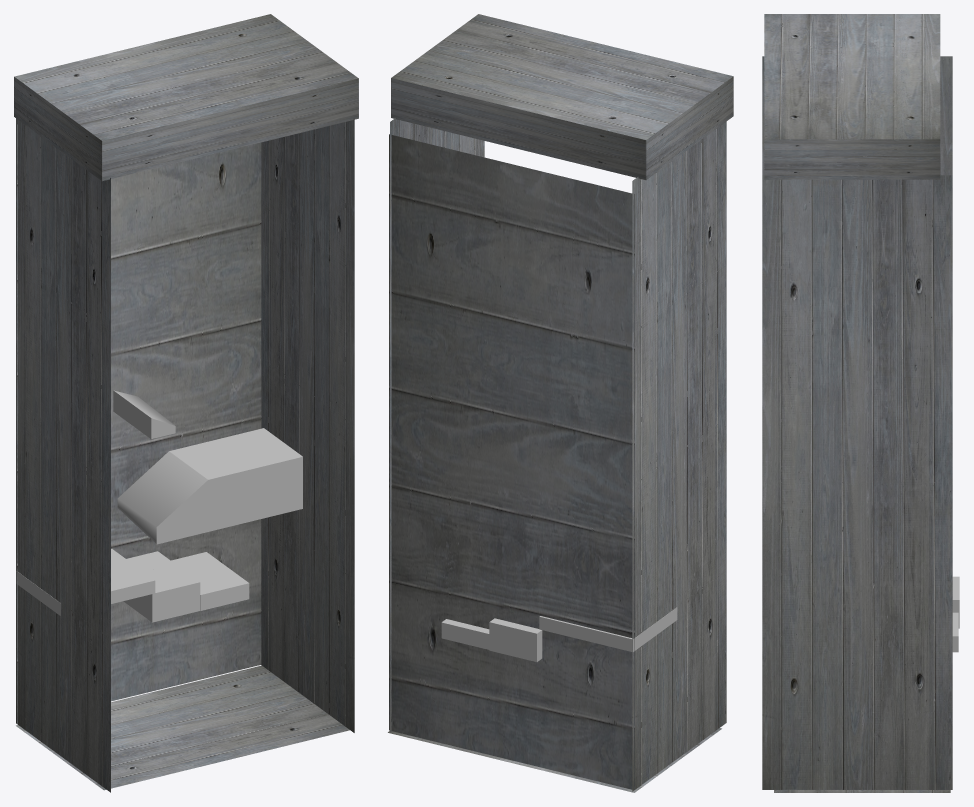
File: Course_Level2.FBX
3 renders of one model, left to right at view 1: azimuth 30°, elevation 25°; view 2: azimuth 150°, elevation 25°; view 3: azimuth 270°, elevation 25°, orthographic.
Visible parts, largest first — view 1: Plane004, Plane002, Plane003, Box011, Plane005, Box008, Box004, Box005, Box006, Box009; view 2: Plane004, Plane002, Box011, Plane003, Box006, Box004, Plane005, Box005; view 3: Plane003, Box011, Plane002, Plane005.
Part boxes in pixels (x1=…): Plane004: x1=17, y1=124, x2=261, y2=724; Plane002: x1=16, y1=118, x2=110, y2=792; Plane003: x1=261, y1=118, x2=354, y2=732; Box011: x1=14, y1=14, x2=358, y2=181; Plane005: x1=16, y1=665, x2=349, y2=790; Box008: x1=117, y1=428, x2=302, y2=544; Box004: x1=123, y1=551, x2=200, y2=622; Box005: x1=171, y1=552, x2=249, y2=610; Box006: x1=16, y1=549, x2=155, y2=615; Box009: x1=113, y1=390, x2=175, y2=439; Plane004: x1=389, y1=134, x2=634, y2=790; Plane002: x1=632, y1=121, x2=726, y2=791; Box011: x1=391, y1=14, x2=733, y2=179; Plane003: x1=390, y1=118, x2=484, y2=732; Box006: x1=539, y1=607, x2=677, y2=651; Box004: x1=489, y1=618, x2=542, y2=661; Plane005: x1=388, y1=728, x2=721, y2=792; Box005: x1=441, y1=619, x2=489, y2=649; Plane003: x1=762, y1=175, x2=952, y2=789; Box011: x1=764, y1=14, x2=940, y2=179; Plane002: x1=762, y1=56, x2=952, y2=175; Plane005: x1=774, y1=790, x2=950, y2=792.
Bounding box in the file's own units: 1001 × 666 × 2437.
